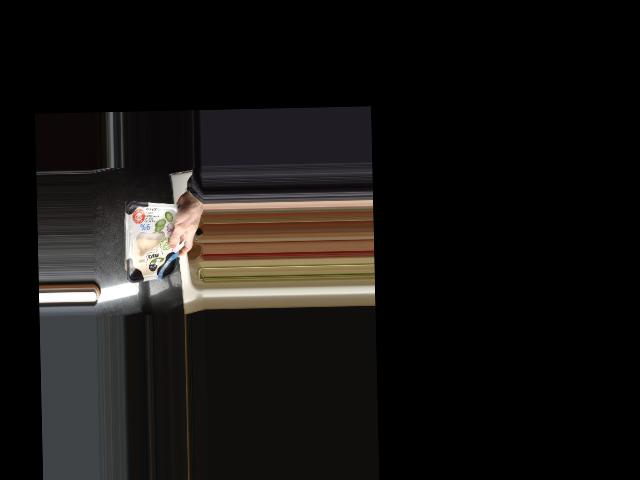cheese: (124, 200, 186, 281)
